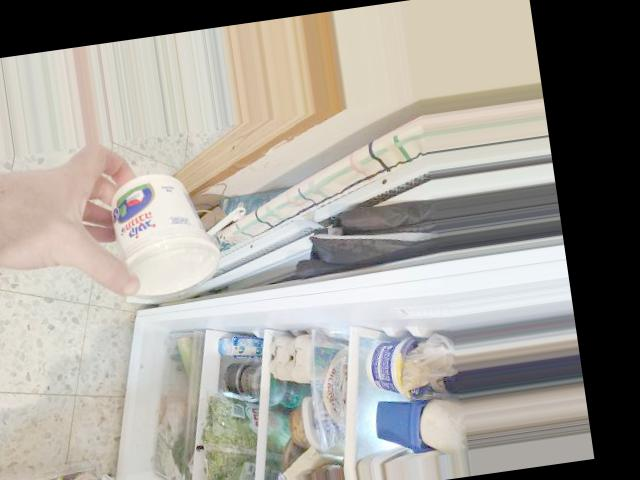cotage: (95, 162, 220, 299)
